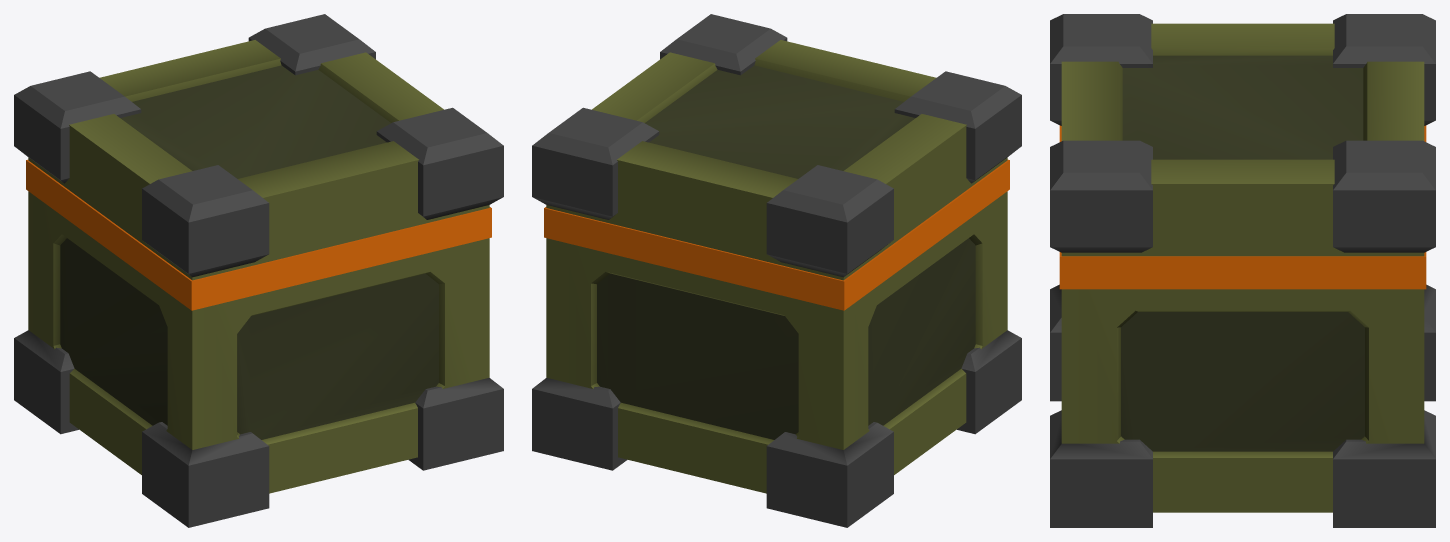
File: crate.glb
The picture shows the model from 3 angles, left to right: view 1: azimuth 30°, elevation 25°; view 2: azimuth 150°, elevation 25°; view 3: azimuth 270°, elevation 25°; orthographic projection. The views are drawn at different scales.
Parts seen in each view (by area): view 1: crate; view 2: crate; view 3: crate.
Part boxes in pixels (x1=…): crate: x1=14, y1=14, x2=503, y2=527; crate: x1=532, y1=14, x2=1021, y2=527; crate: x1=1050, y1=14, x2=1435, y2=527.
Bounding box in the file's own units: 0.97 × 0.93 × 0.93.
1 material, 1 textured.
